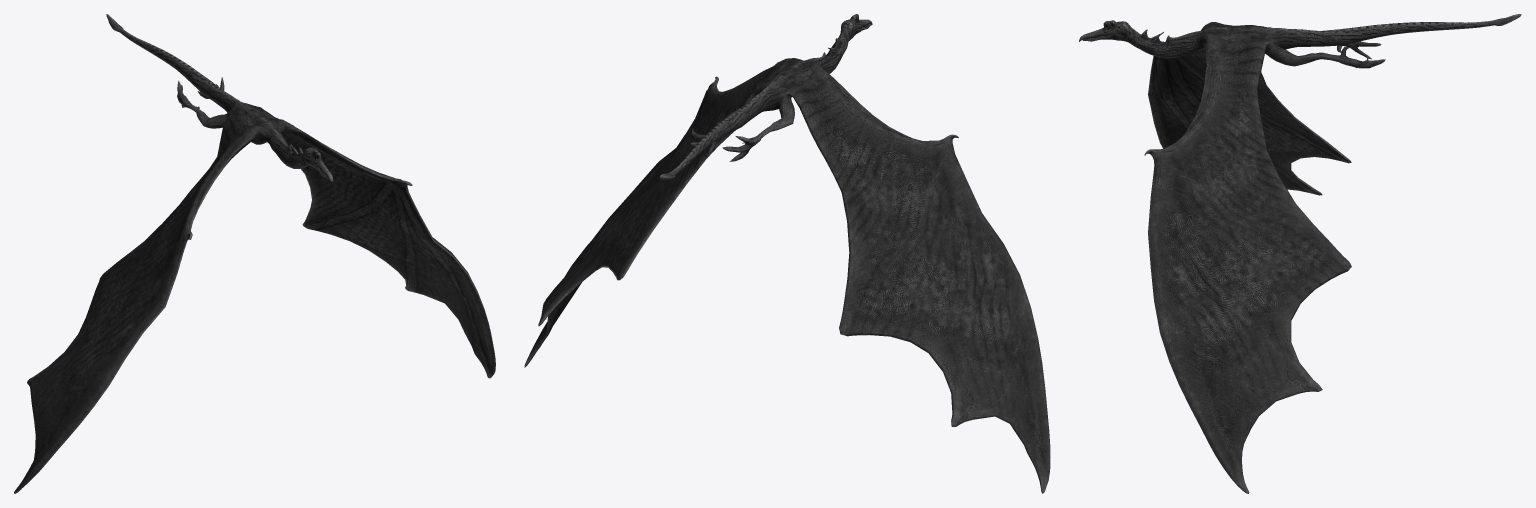
File: Fellbeast_Animate_Flying_26.obj
The picture shows the model from 3 angles, left to right: view 1: azimuth 30°, elevation 25°; view 2: azimuth 150°, elevation 25°; view 3: azimuth 270°, elevation 25°; orthographic projection. The views are drawn at different scales.
Parts seen in each view (by area): view 1: Fellbeast; view 2: Fellbeast; view 3: Fellbeast.
Part boxes in pixels (x1,y1,x2,y2): Fellbeast: (14, 14, 495, 493); Fellbeast: (524, 14, 1050, 493); Fellbeast: (1079, 14, 1521, 493).
Bounding box in the file's own units: 5.75 × 3.85 × 4.4.
